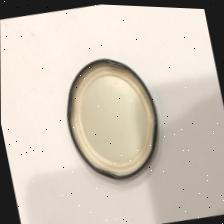metal: (48, 38, 183, 197)
